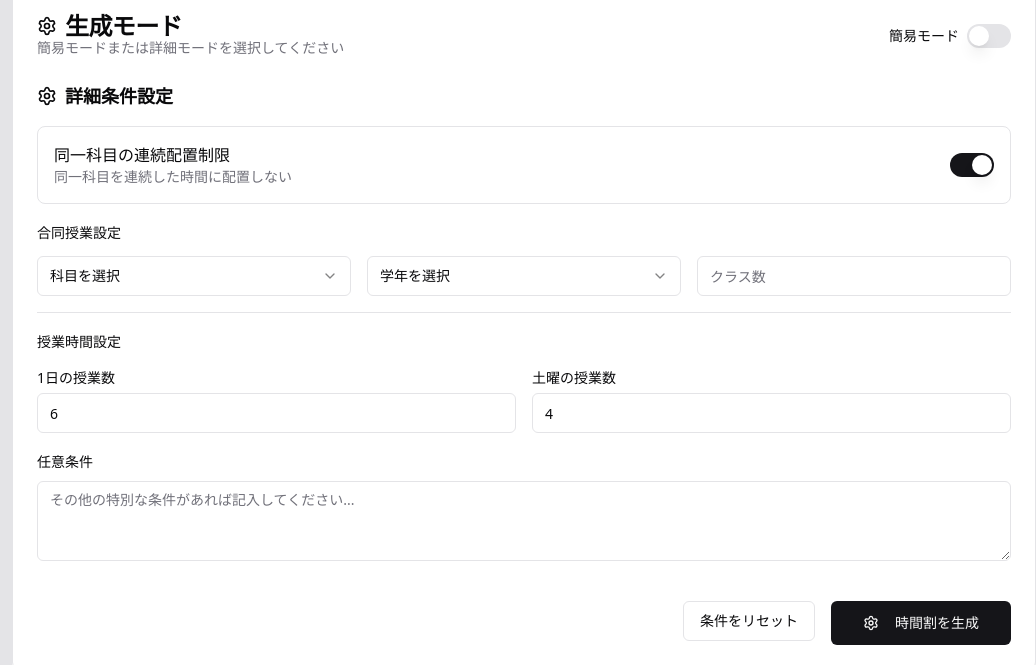
Scenario: TimetableGenerate › 生成結果でメタデータがない場合のデフォルト値表示
The width and height of the screenshot is (1036, 665).
Click the button "時間割を生成" at [921, 623], box [831,601,1011,645]
(page scrolled)
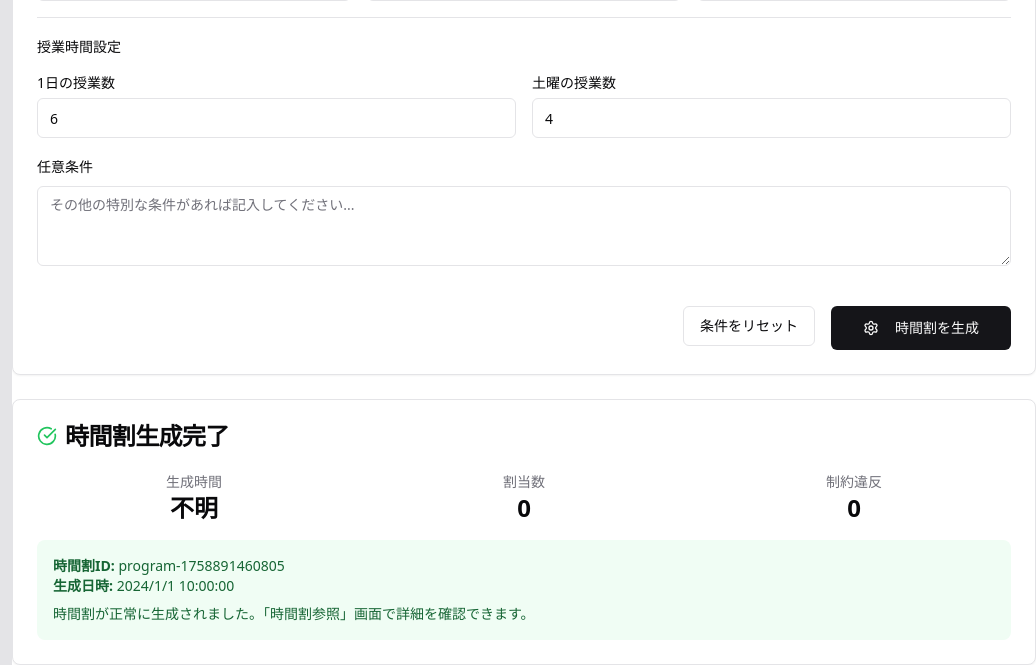
Now the text "時間割生成完了" is shown, box [65,424,229,448]
Now the text "不明" is shown, box [170,491,218,524]
Now the text "0" is shown 2 times, box [517,491,531,524]; [847,491,861,524]
